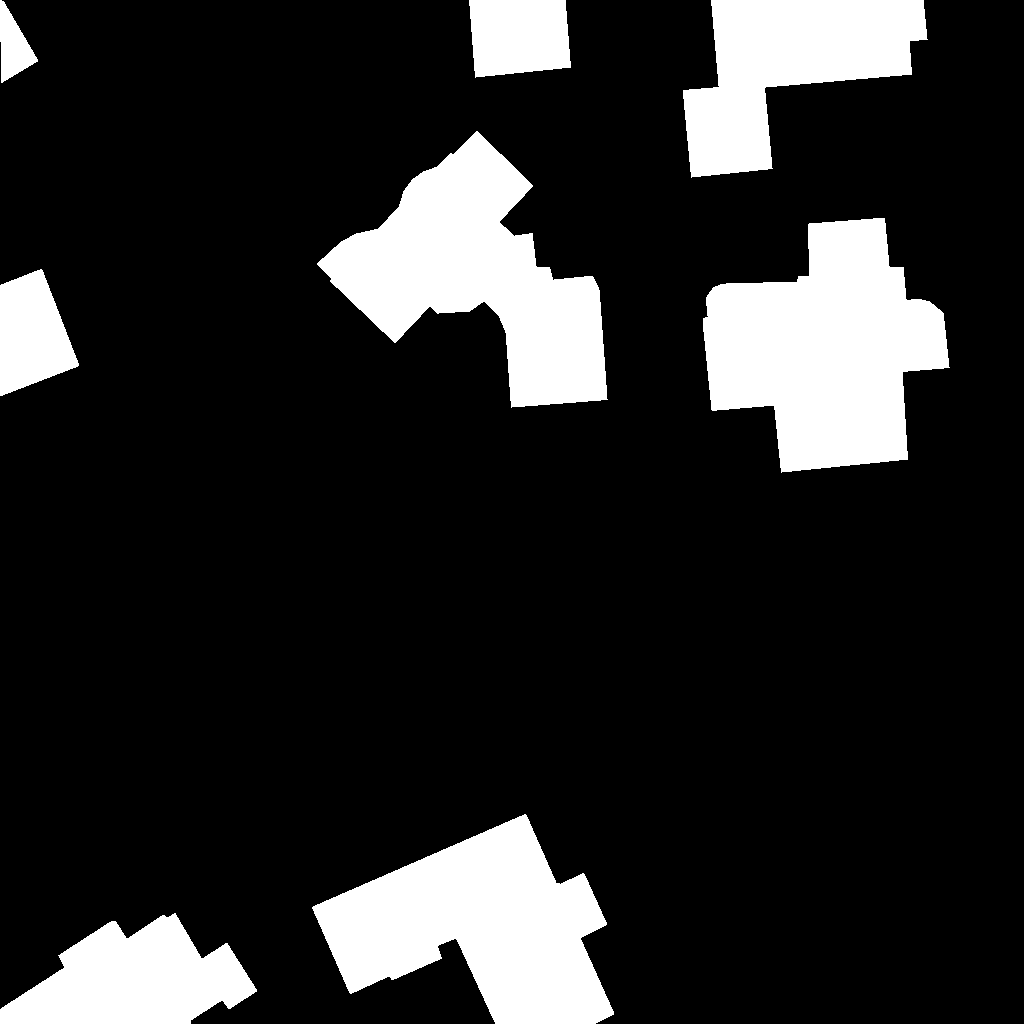building: (317, 131, 608, 408), (312, 814, 615, 1024), (703, 218, 950, 473), (683, 0, 928, 178), (0, 913, 258, 1024), (0, 269, 80, 397), (469, 0, 572, 78), (0, 0, 39, 84)
